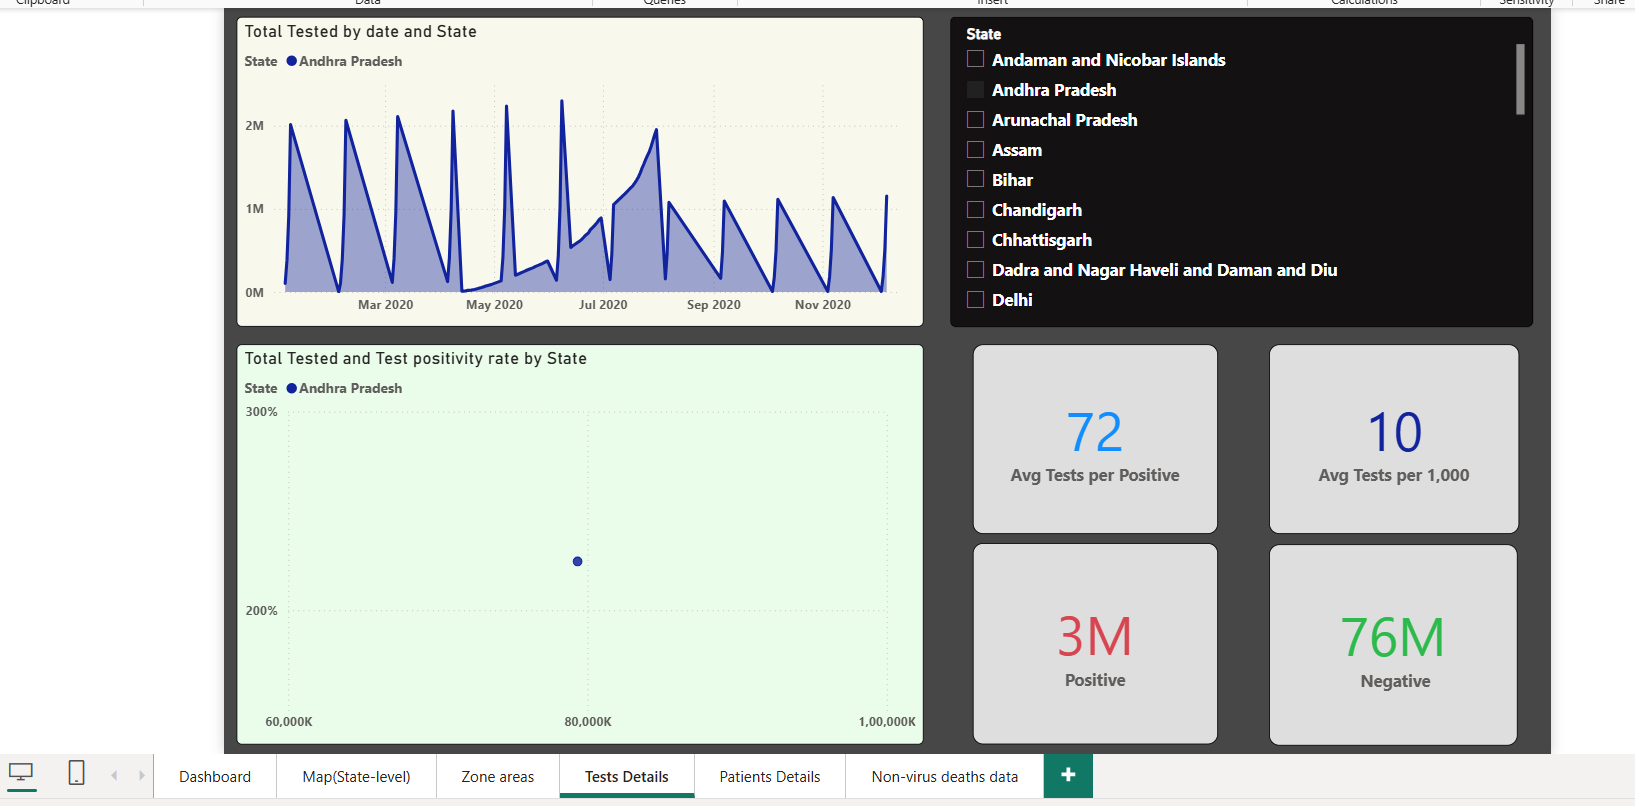

Layout of this report page (visuals, bound fields, positions):
{"tool":"powerbi","page":{"name":"Tests Details","canvas":[1280,720],"ordinal":3},"visuals":[{"type":"lineChart","fields":{"Category":["tests_state_wise_2020.date"],"Y":["Sum(tests_state_wise_2020.Total Tested)"],"Series":["tests_state_wise_2020.State"]},"box":[12.1,8.4,663.5,299.2],"z":0},{"type":"slicer","fields":{"Values":["tests_state_wise_2020.State"]},"box":[700.9,8.4,562.2,299.2],"z":1000},{"type":"scatterChart","fields":{"X":["Sum(tests_state_wise_2020.Total Tested)"],"Y":["Sum(tests_state_wise_2020.Test positivity rate)"],"Series":["tests_state_wise_2020.State"]},"box":[12.1,324.5,663.5,386.1],"z":2000},{"type":"card","fields":{"Values":["tests_state_wise_2020.Avg Tests per Positive"]},"box":[722.7,324.5,236.5,183.4],"z":3000},{"type":"card","fields":{"Values":["tests_state_wise_2020.Avg Tests per 1,000"]},"box":[1008.6,324.5,241.3,183.4],"z":4000},{"type":"card","fields":{"Values":["Sum(tests_state_wise_2020.Positive)"]},"box":[722.7,516.4,236.5,194.2],"z":5000},{"type":"card","fields":{"Values":["Sum(tests_state_wise_2020.Negative)"]},"box":[1008.6,517.6,240.1,194.2],"z":6000}]}

Visuals, with their boxes on the page's 1280x720 design canvas (x1, y1, x2, y2). These are canvas units, not pixel positions in the 1635x806 screenshot, which may show the page scaled, cropped or inside an application window:
lineChart - tests_state_wise_2020.date x Sum(tests_state_wise_2020.Total Tested): <bbox>12, 8, 676, 308</bbox>
slicer - tests_state_wise_2020.State: <bbox>701, 8, 1263, 308</bbox>
scatterChart - Sum(tests_state_wise_2020.Total Tested) x Sum(tests_state_wise_2020.Test positivity rate): <bbox>12, 324, 676, 711</bbox>
card - tests_state_wise_2020.Avg Tests per Positive: <bbox>723, 324, 959, 508</bbox>
card - tests_state_wise_2020.Avg Tests per 1,000: <bbox>1009, 324, 1250, 508</bbox>
card - Sum(tests_state_wise_2020.Positive): <bbox>723, 516, 959, 711</bbox>
card - Sum(tests_state_wise_2020.Negative): <bbox>1009, 518, 1249, 712</bbox>
